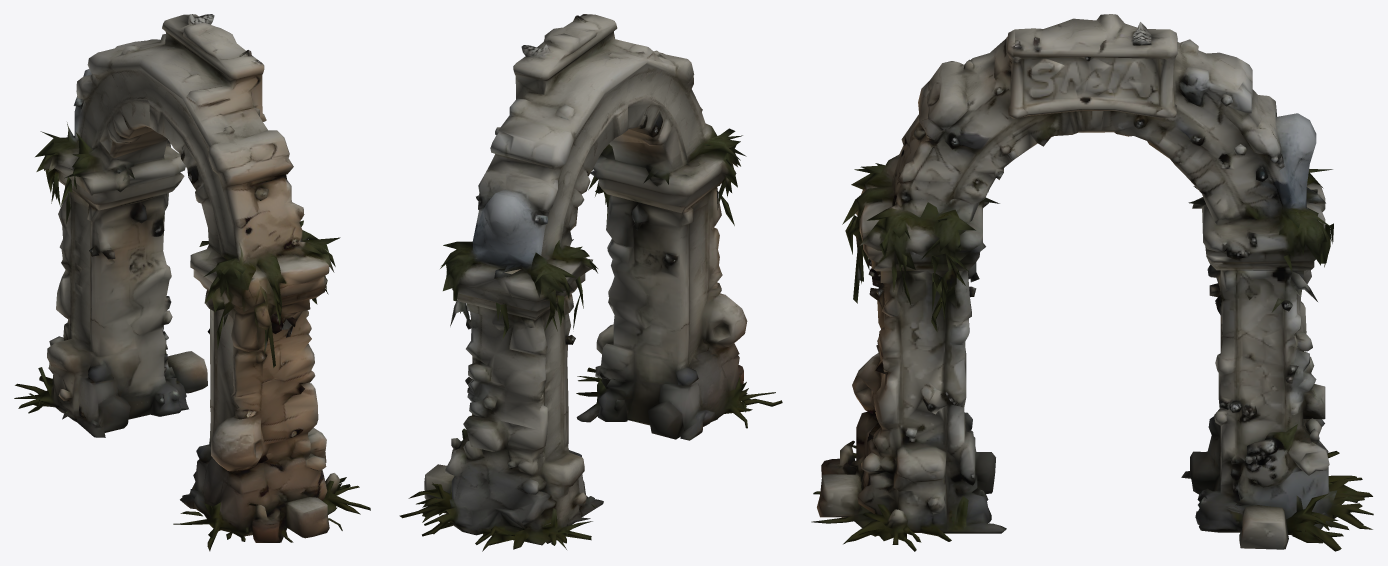
3 renders of one model, left to right at view 1: azimuth 30°, elevation 25°; view 2: azimuth 150°, elevation 25°; view 3: azimuth 270°, elevation 25°, orthographic. The views are drawn at different scales.
Parts seen in each view (by area): view 1: tripo_node_a6cacfbc-dbef-4f70-ad24-8d232f29101a; view 2: tripo_node_a6cacfbc-dbef-4f70-ad24-8d232f29101a; view 3: tripo_node_a6cacfbc-dbef-4f70-ad24-8d232f29101a.
Part boxes in pixels (x1,y1,x2,y2): tripo_node_a6cacfbc-dbef-4f70-ad24-8d232f29101a: (14, 14, 370, 551); tripo_node_a6cacfbc-dbef-4f70-ad24-8d232f29101a: (399, 14, 782, 551); tripo_node_a6cacfbc-dbef-4f70-ad24-8d232f29101a: (811, 14, 1373, 551).
Size of the model in its own units: 0.4188 by 0.9726 by 1.
Materials: 1 (1 with a texture image).
